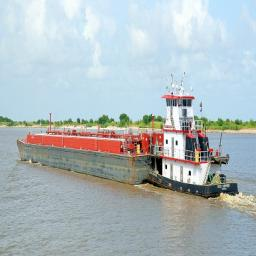tugboat: (148, 80, 241, 204)
